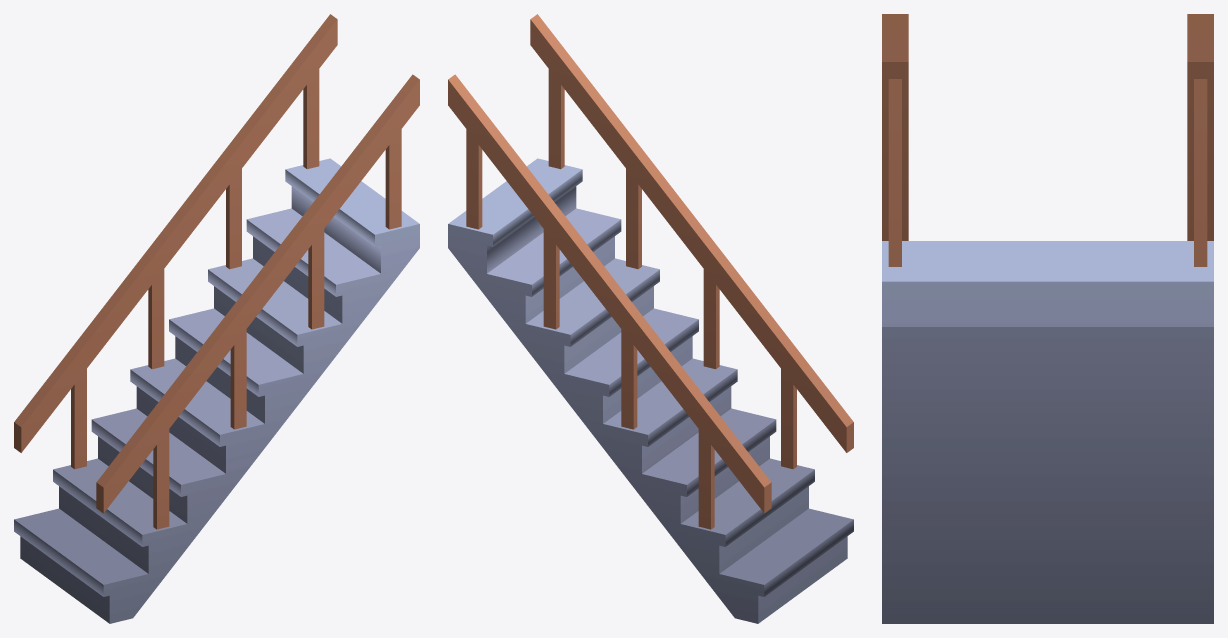
File: stairs-stone-handrail.glb
3 renders of one model, left to right at view 1: azimuth 30°, elevation 25°; view 2: azimuth 150°, elevation 25°; view 3: azimuth 270°, elevation 25°, orthographic. The views are drawn at different scales.
Visible parts, largest first — view 1: stairs-stone-handrail; view 2: stairs-stone-handrail; view 3: stairs-stone-handrail.
Part boxes in pixels (box(x1,y1,x2,y2)): stairs-stone-handrail: box(14, 14, 419, 623); stairs-stone-handrail: box(448, 14, 853, 623); stairs-stone-handrail: box(882, 14, 1213, 623).
Bounding box in the file's own units: 1.02 × 1.45 × 0.5.
1 material, 1 textured.
